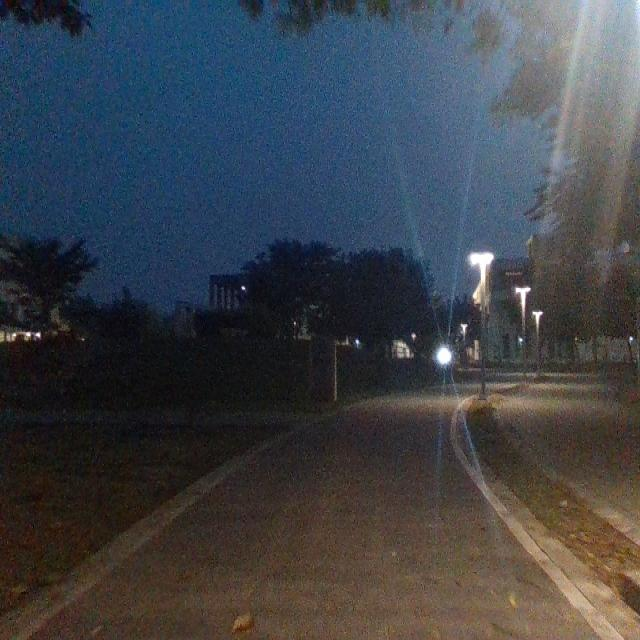lane: (29, 378, 604, 640)
